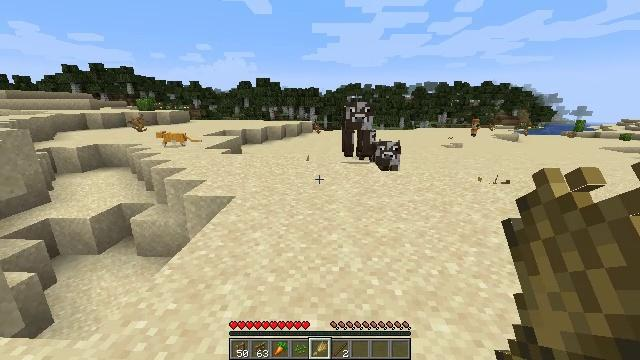cow: (342, 101, 374, 157), (374, 141, 402, 171)
